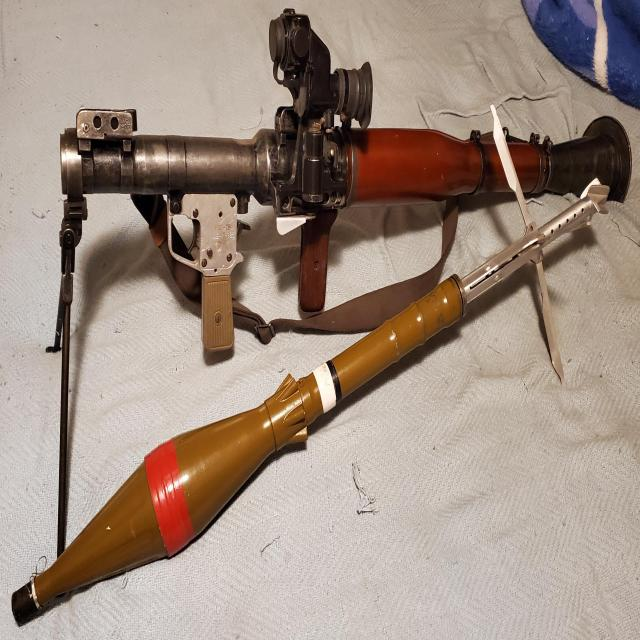Gun: (45, 6, 638, 335)
